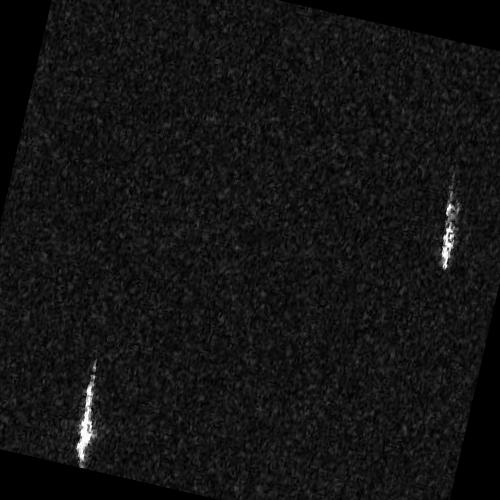ship: (74, 372, 96, 463), (439, 197, 458, 271)
